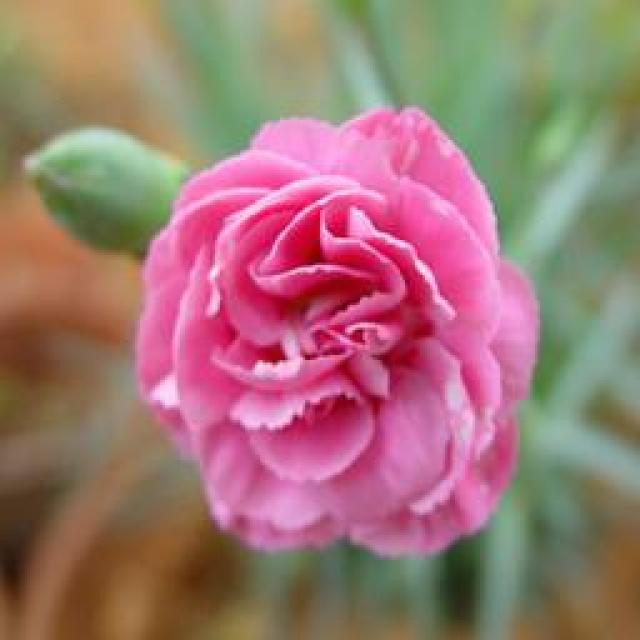carnation: (133, 104, 532, 561)
